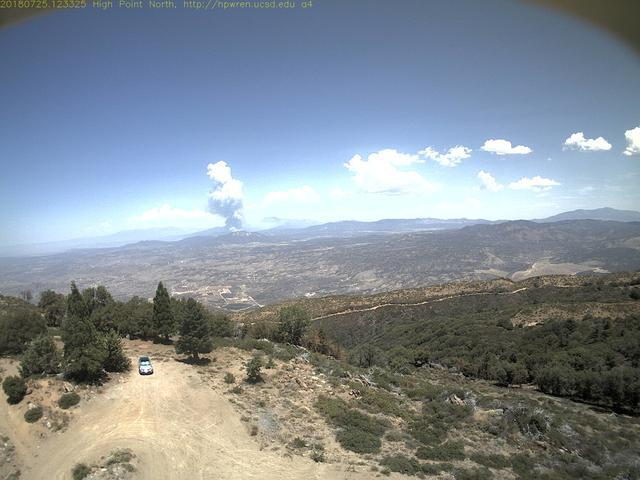smoke: (202, 158, 258, 239)
